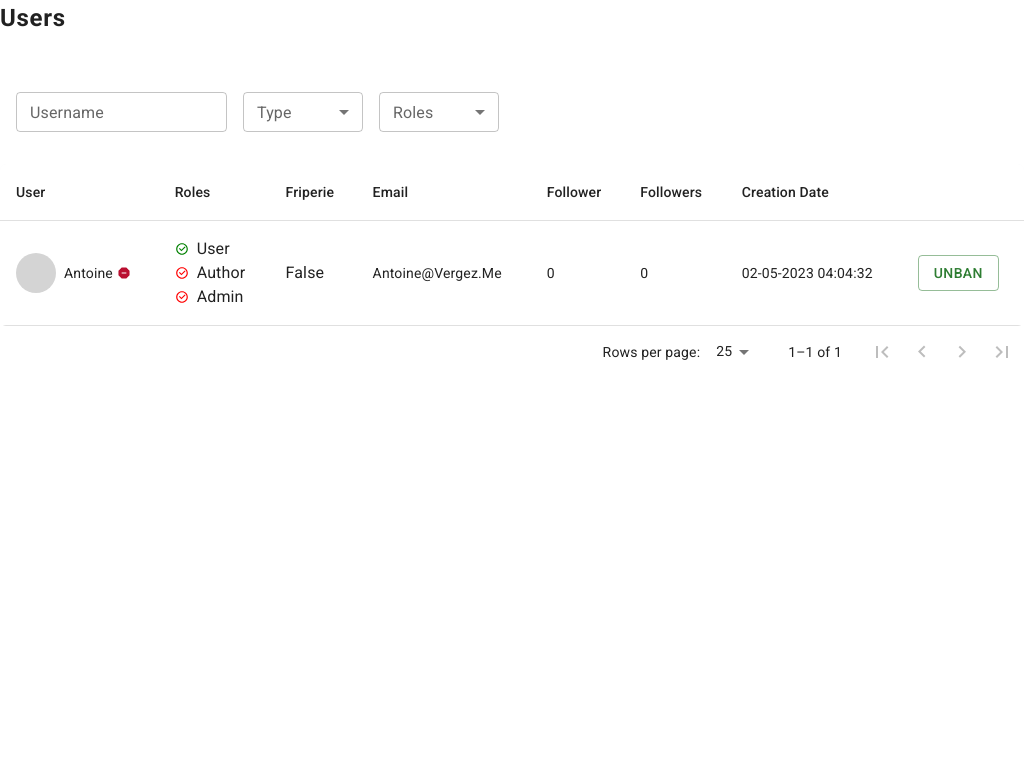
Test case: Users component › User button click › Prompt user unban
Click the button "Unban". click: (958, 273)
box: [918,255,999,291]
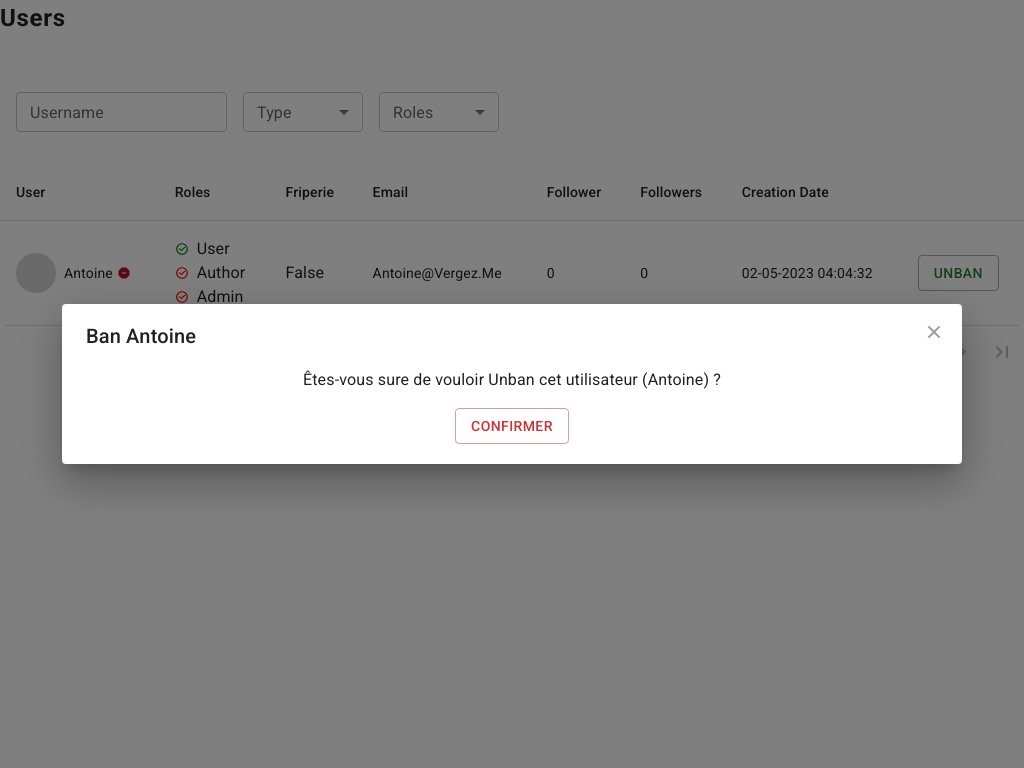
Expected: the text "Êtes-vous sure de vouloir Unban cet utilisateur (Antoine) ?" is shown, [303,368,721,392]
Expected: the button "Confirmer" is shown, [455,408,569,444]
